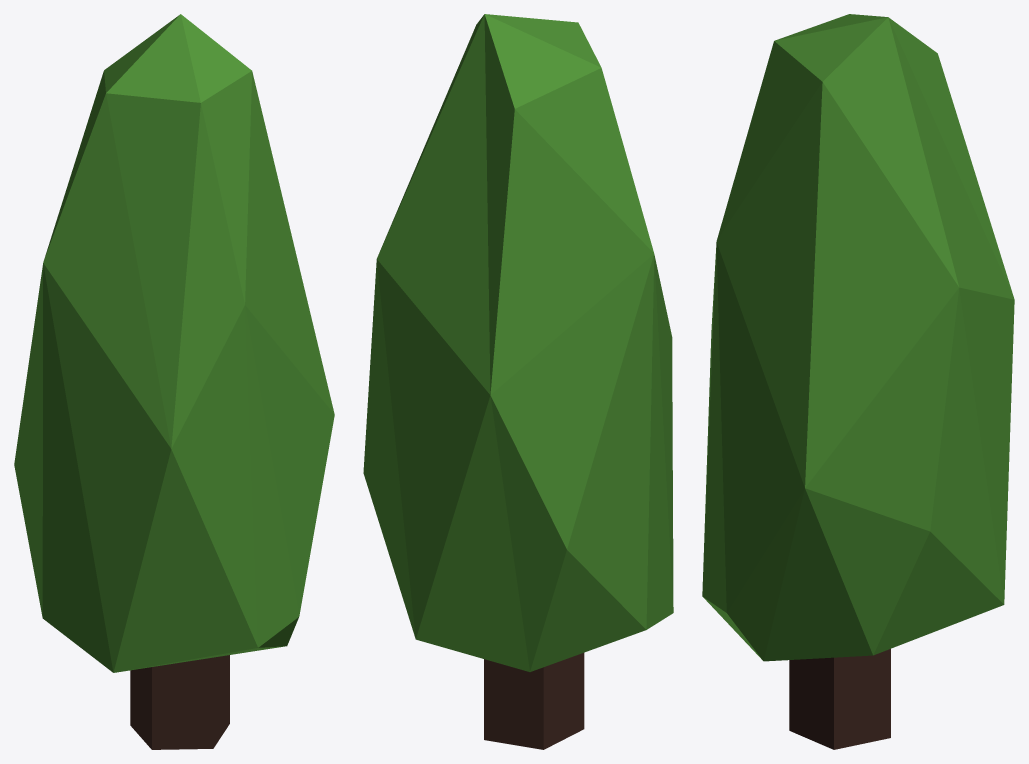
File: Tree_2_Green_Dark_vc.fbx
3 views of the same model, side by side, from view 1: azimuth 30°, elevation 25°; view 2: azimuth 150°, elevation 25°; view 3: azimuth 270°, elevation 25° (orthographic). The views are drawn at different scales.
Visible parts, largest first — view 1: Tree_2_Green_Dark_vc; view 2: Tree_2_Green_Dark_vc; view 3: Tree_2_Green_Dark_vc.
Part boxes in pixels (x1,y1,x2,y2): Tree_2_Green_Dark_vc: [14, 14, 334, 749]; Tree_2_Green_Dark_vc: [363, 14, 673, 749]; Tree_2_Green_Dark_vc: [702, 14, 1014, 749].
Bounding box in the file's own units: 143 × 360 × 141.
